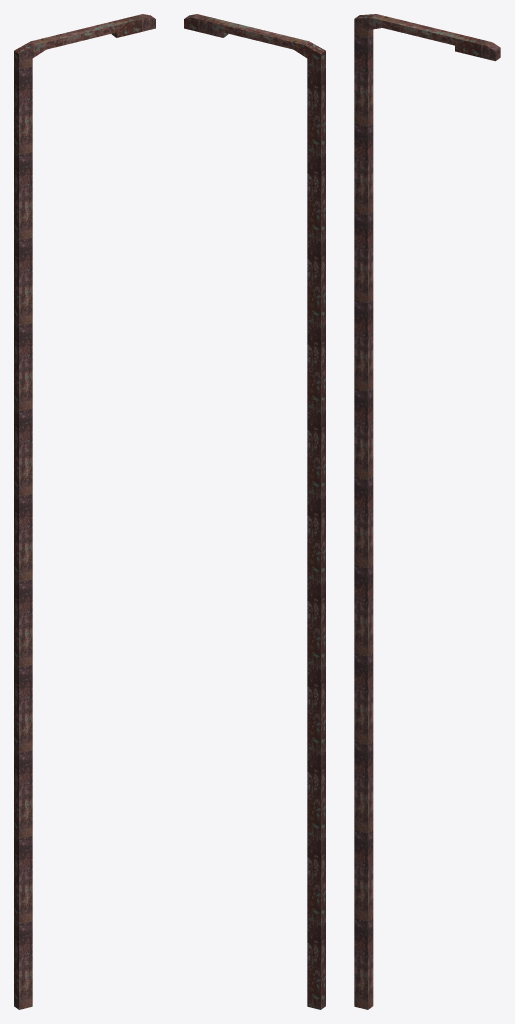
The model's file is Groep_180.fbx.
The picture shows the model from 3 angles, left to right: view 1: azimuth 30°, elevation 25°; view 2: azimuth 150°, elevation 25°; view 3: azimuth 330°, elevation 25°; orthographic projection. The views are drawn at different scales.
Parts seen in each view (by area): view 1: Model; view 2: Model; view 3: Model.
Boxes of the visible parts, left/top/right/bottom form: Model: left=14, top=14, right=155, bottom=1009; Model: left=184, top=14, right=325, bottom=1009; Model: left=354, top=14, right=500, bottom=1009.
Bounding box in the file's own units: 1.23 × 8.22 × 0.0788.
